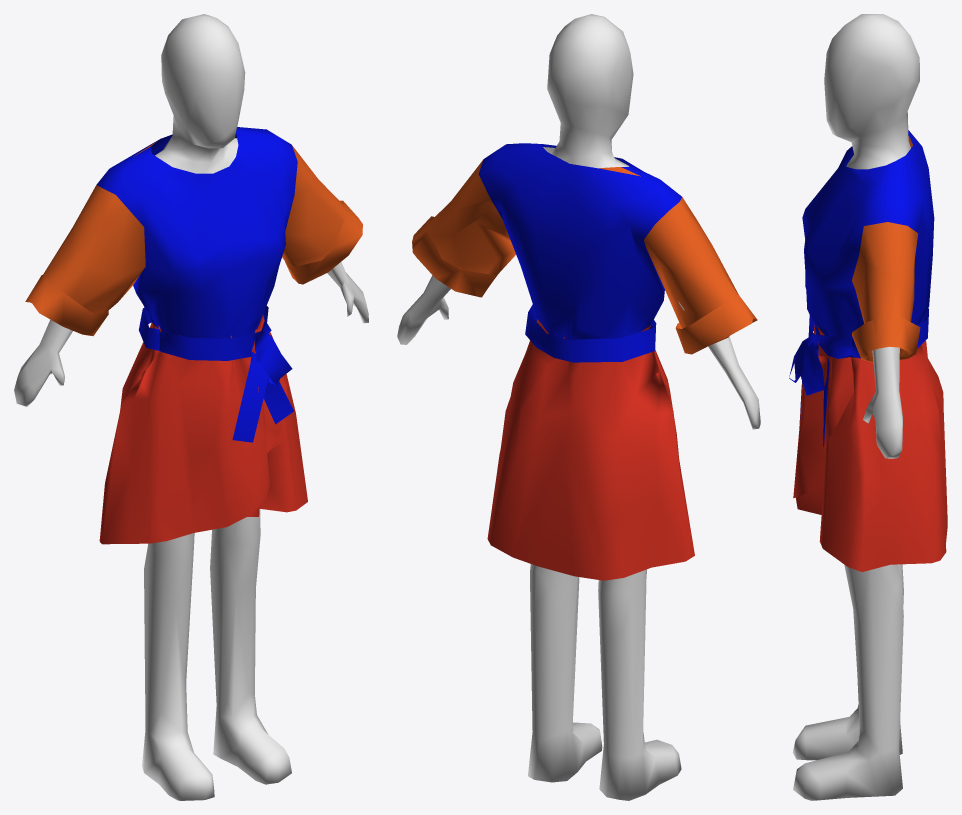
Rendered from Mannequin_WithDress1.fbx.
3 views of the same model, side by side, from view 1: azimuth 30°, elevation 25°; view 2: azimuth 150°, elevation 25°; view 3: azimuth 270°, elevation 25° (orthographic). The views are drawn at different scales.
Parts seen in each view (by area): view 1: Short tie Khaki dress, Sphere; view 2: Short tie Khaki dress, Sphere; view 3: Short tie Khaki dress, Sphere.
Part boxes in pixels (x1,y1,x2,y2): Short tie Khaki dress: [25, 127, 362, 544]; Sphere: [14, 14, 368, 800]; Short tie Khaki dress: [412, 143, 757, 580]; Sphere: [397, 14, 760, 800]; Short tie Khaki dress: [789, 130, 947, 571]; Sphere: [792, 14, 919, 800].
Size of the model in its own units: 234 by 475 by 90.18.
